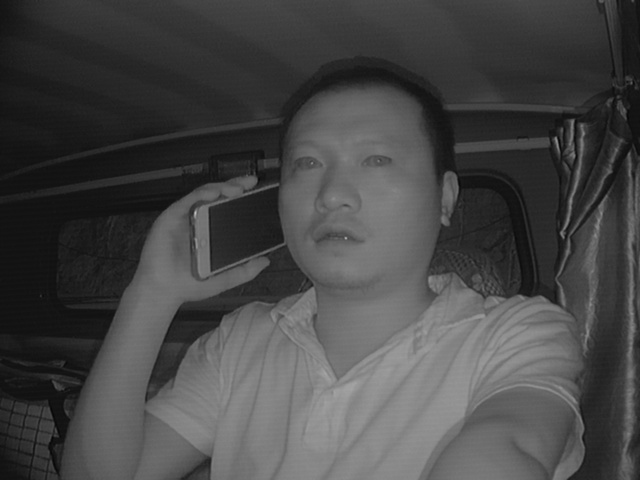hand: (150, 175, 268, 302)
